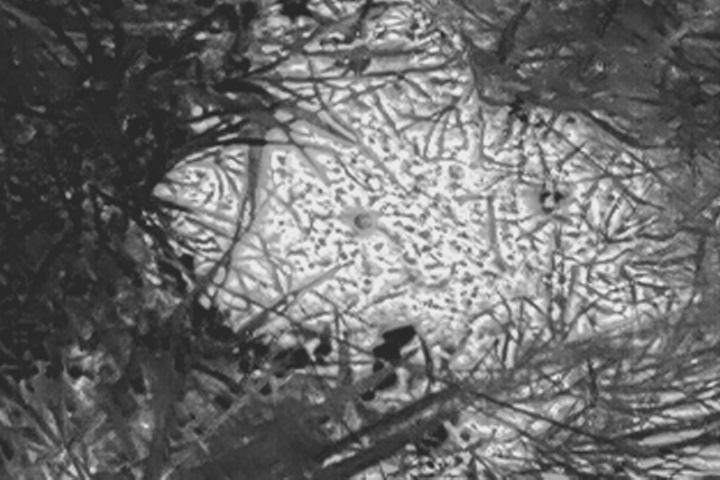landmine: (190, 107, 602, 333)
